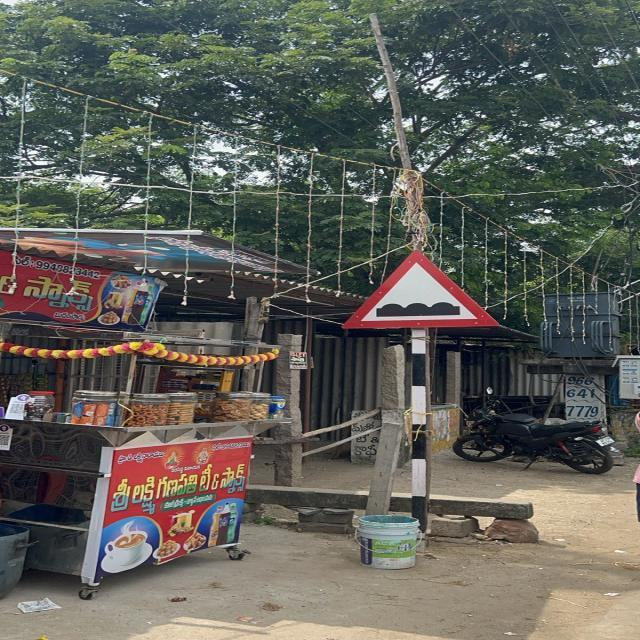hump or rough road: (340, 248, 500, 331)
